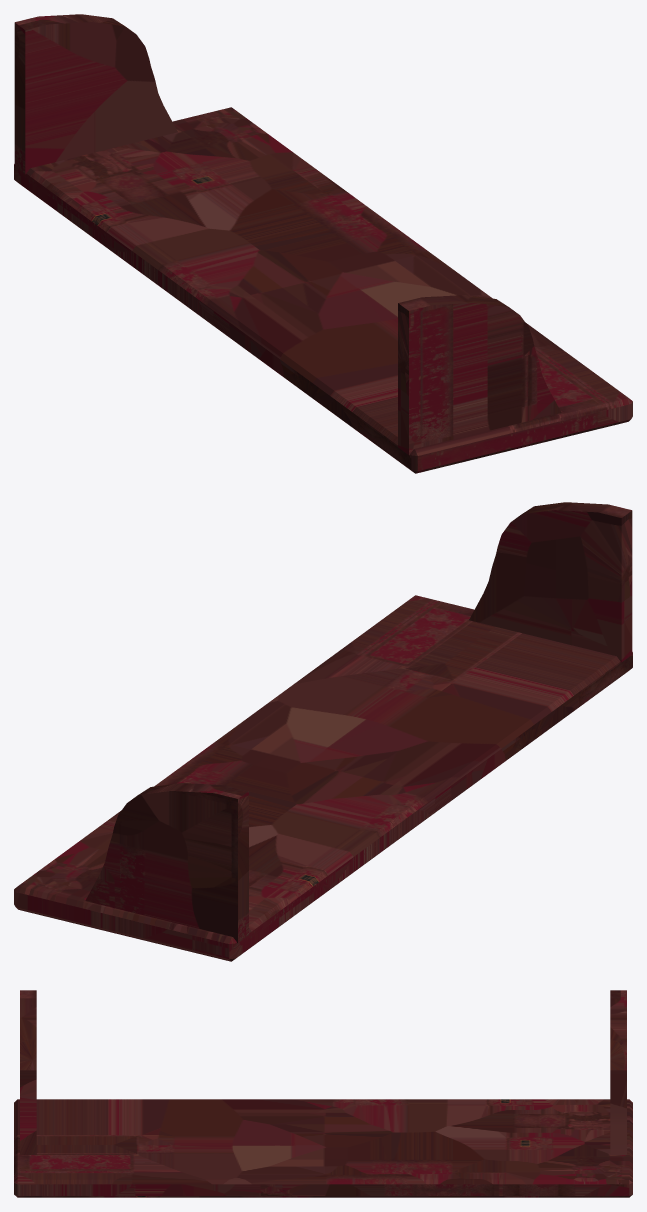
File: luggage_shelf_old.fbx
3 renders of one model, top to bottom at view 1: azimuth 30°, elevation 25°; view 2: azimuth 150°, elevation 25°; view 3: azimuth 270°, elevation 25°, orthographic. The views are drawn at different scales.
Visible parts, largest first — view 1: luggage_shelf_old; view 2: luggage_shelf_old; view 3: luggage_shelf_old.
Boxes of the visible parts, bbox=[...] form: luggage_shelf_old: bbox=[14, 14, 632, 473]; luggage_shelf_old: bbox=[14, 502, 632, 961]; luggage_shelf_old: bbox=[14, 990, 632, 1197].
Bounding box in the file's own units: 62.97 × 44.05 × 197.
